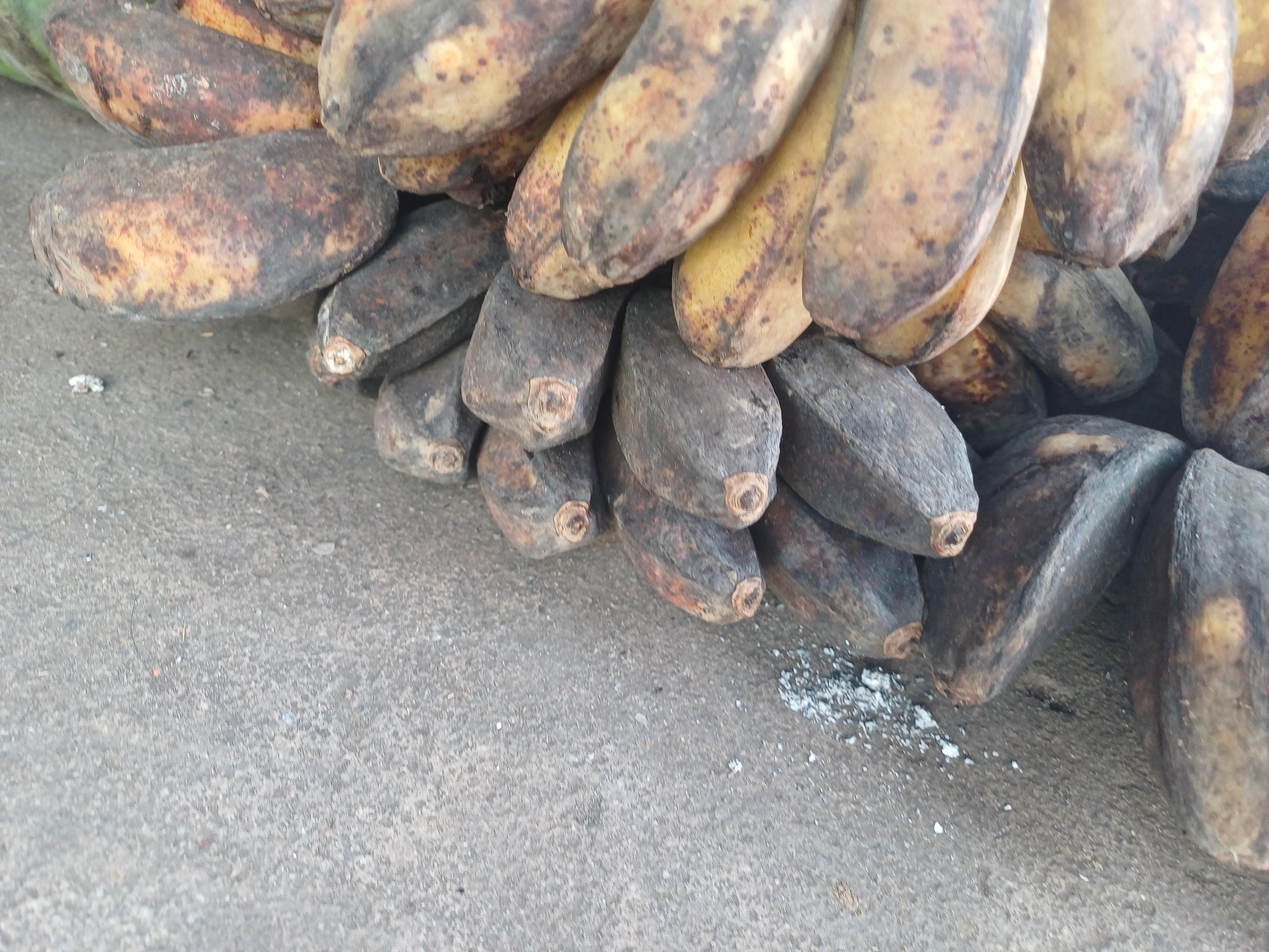overripe: (309, 197, 977, 657), (912, 244, 1269, 869), (21, 0, 397, 327)
ripe: (314, 0, 1236, 368)
